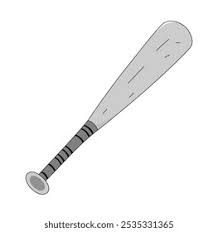baseball bat: (26, 18, 193, 195)
